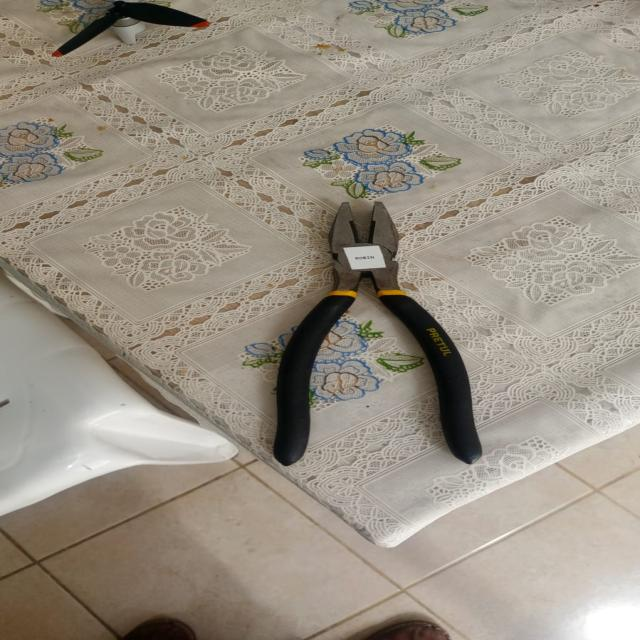alicate: (275, 183, 482, 497)
